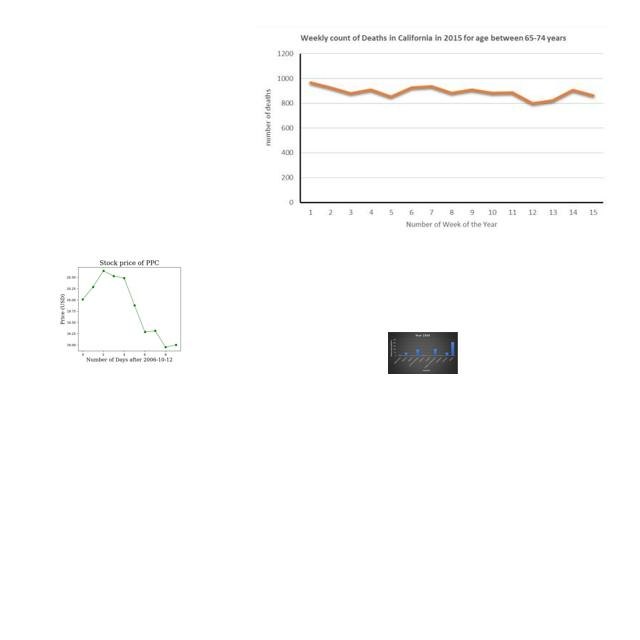Graph: (256, 26, 612, 238), (55, 254, 200, 363), (388, 332, 458, 374)
